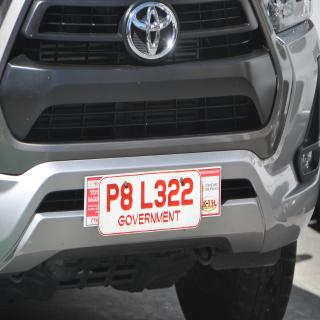license: (99, 170, 202, 236)
